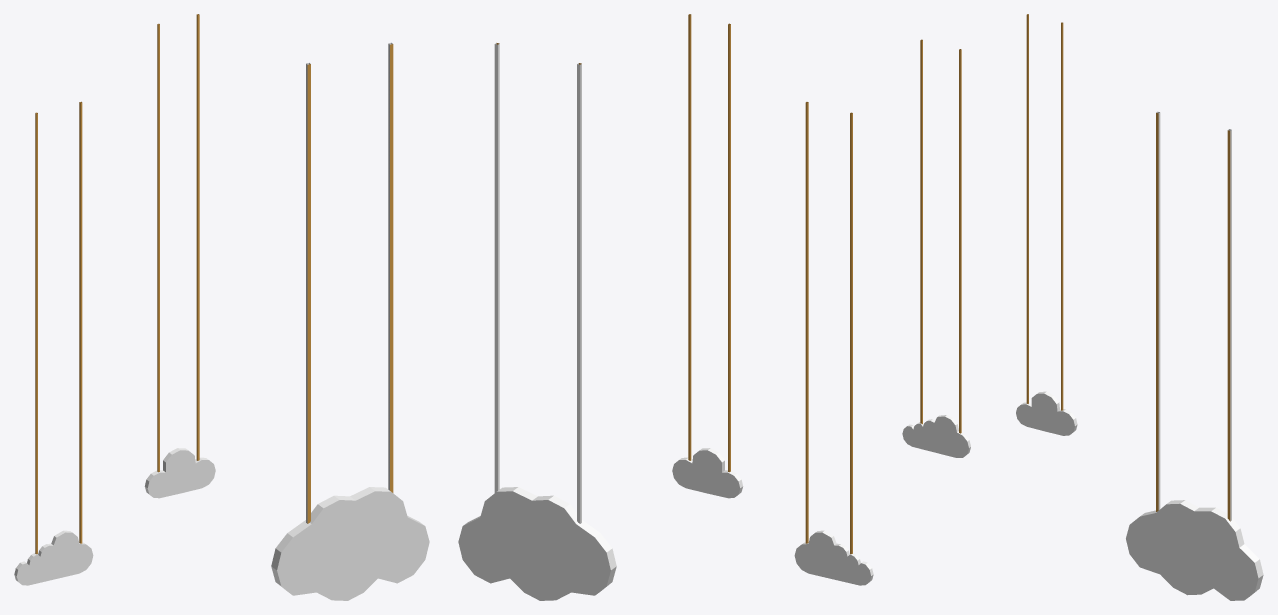
Rendered from Clouds.fbx.
3 views of the same model, side by side, from view 1: azimuth 30°, elevation 25°; view 2: azimuth 150°, elevation 25°; view 3: azimuth 330°, elevation 25° (orthographic). The views are drawn at different scales.
Parts seen in each view (by area): view 1: Mesh_Cloud1, Mesh_Cloud2, Mesh_Cloud3; view 2: Mesh_Cloud1, Mesh_Cloud2, Mesh_Cloud3; view 3: Mesh_Cloud1, Mesh_Cloud2, Mesh_Cloud3.
Part boxes in pixels (box(x1,y1,x2,y2)): Mesh_Cloud1: box(271, 42, 429, 600); Mesh_Cloud2: box(14, 101, 93, 585); Mesh_Cloud3: box(144, 14, 215, 498); Mesh_Cloud1: box(458, 43, 616, 600); Mesh_Cloud2: box(794, 102, 873, 585); Mesh_Cloud3: box(672, 14, 743, 498); Mesh_Cloud1: box(1126, 111, 1263, 600); Mesh_Cloud2: box(902, 39, 970, 457); Mesh_Cloud3: box(1016, 14, 1077, 435).
Size of the model in its own units: 254 by 366 by 6.26.
Materials: 1 (1 with a texture image).
